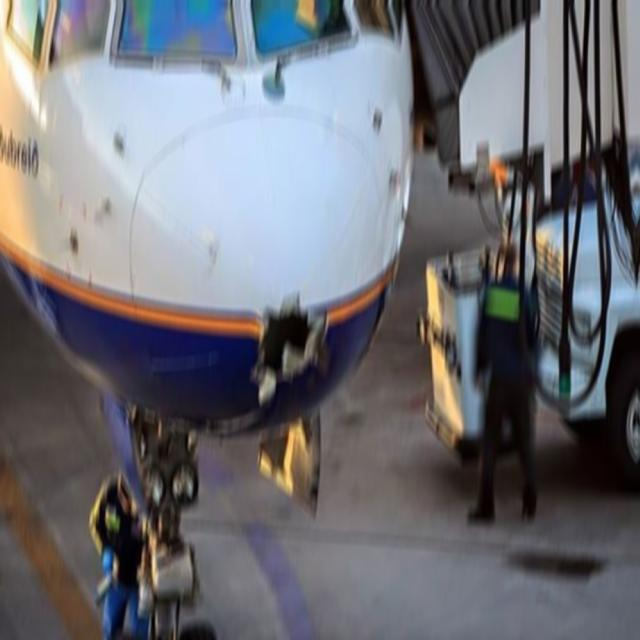crack: (245, 288, 329, 401)
